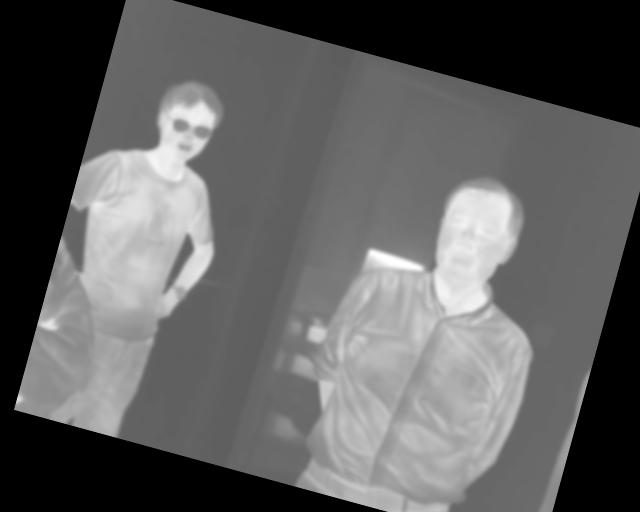face: (423, 165, 533, 300), (145, 73, 230, 173)
